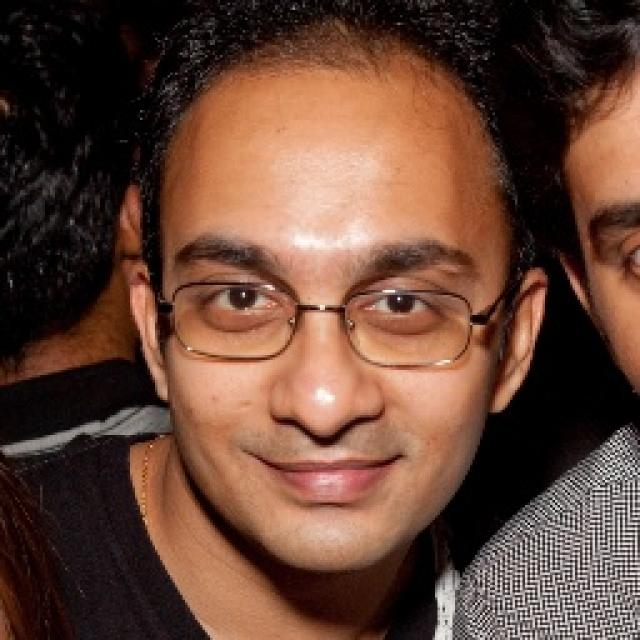earlobe: (489, 268, 548, 416), (124, 260, 171, 402)
